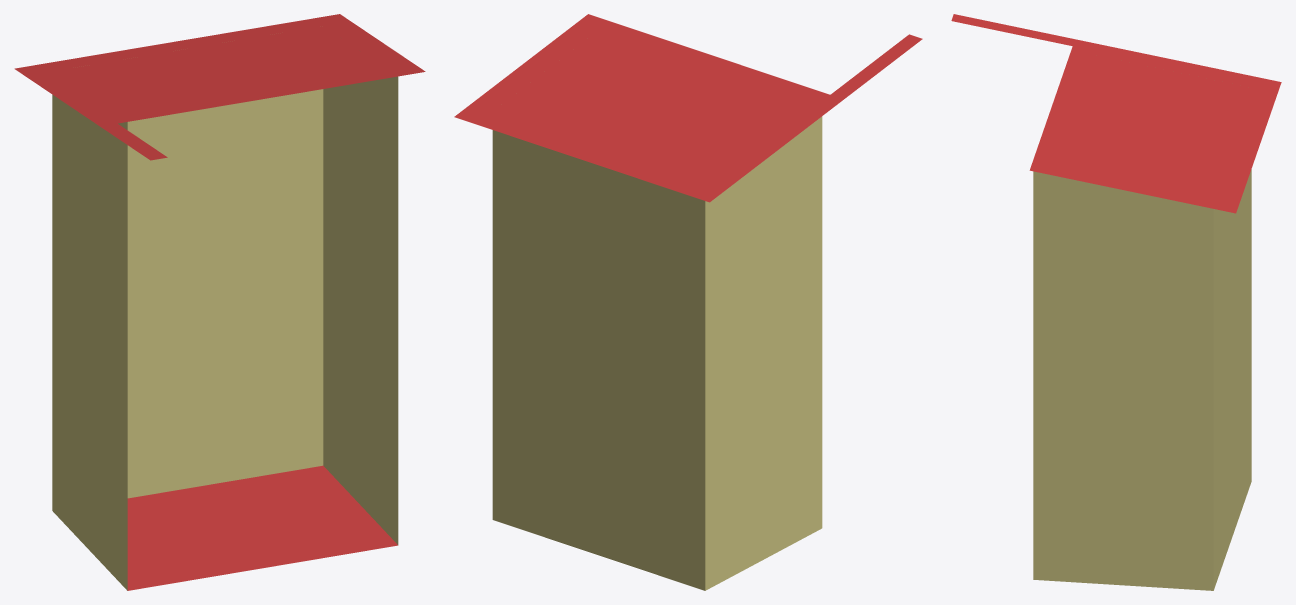
3 views of the same model, side by side, from view 1: azimuth 30°, elevation 25°; view 2: azimuth 150°, elevation 25°; view 3: azimuth 270°, elevation 25° (orthographic). The views are drawn at different scales.
Bounding box in the file's own units: 6.76 × 6.22 × 9.11.
